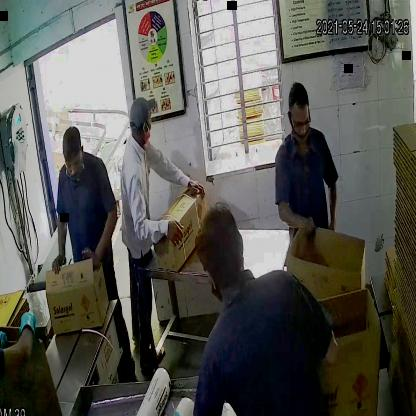goggles: (288, 108, 312, 134)
